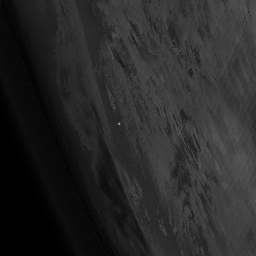Target: (117, 122, 121, 126)
